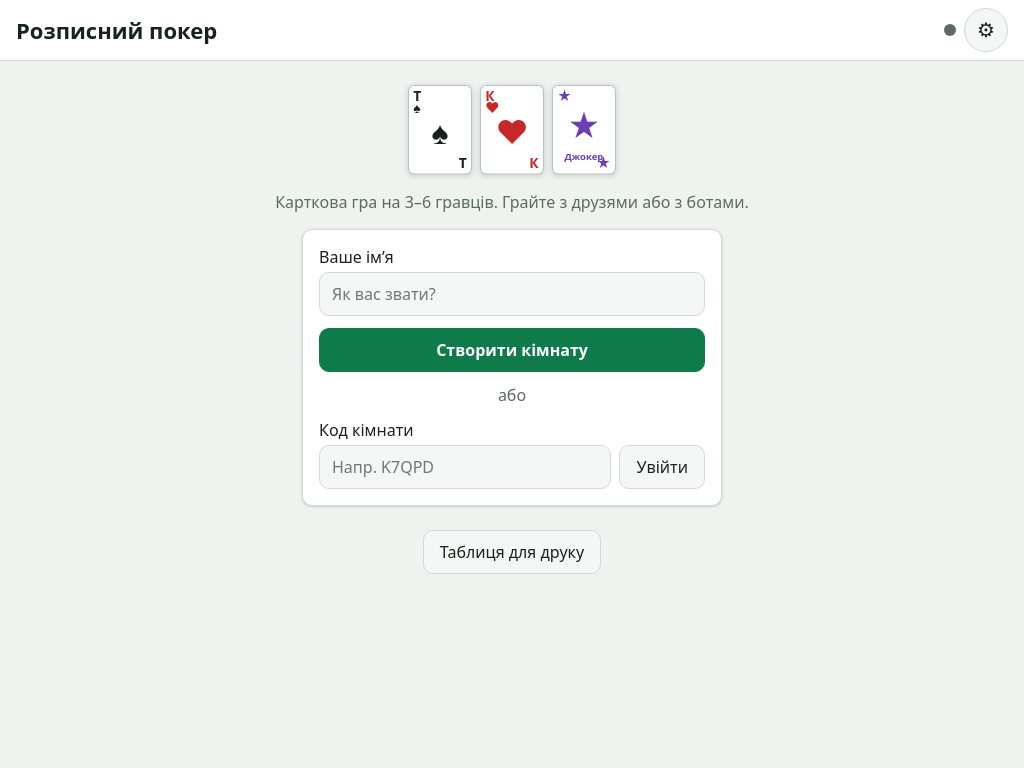
Test: лобі › створює кімнату з введеним імʼям і запамʼятовує токен
Type "  Оля " into the field labelled "Ваше імʼя" at point(512, 294), box [319,272,705,316]
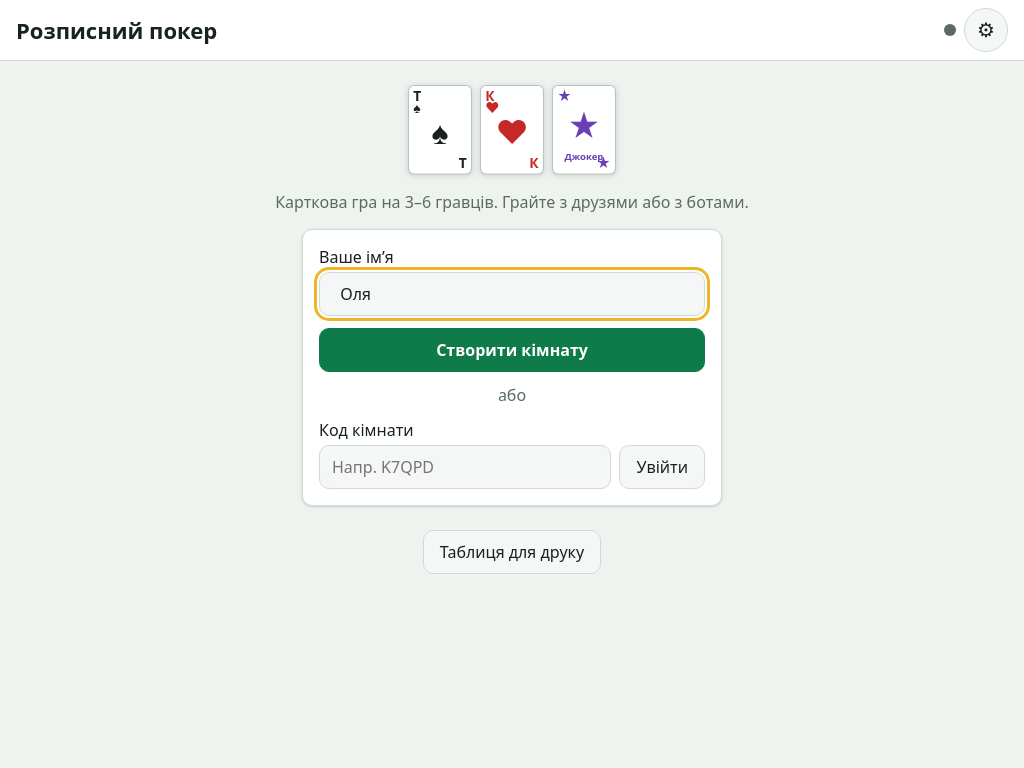
Click the button "Створити кімнату" at point(512, 350), box [319,328,705,372]
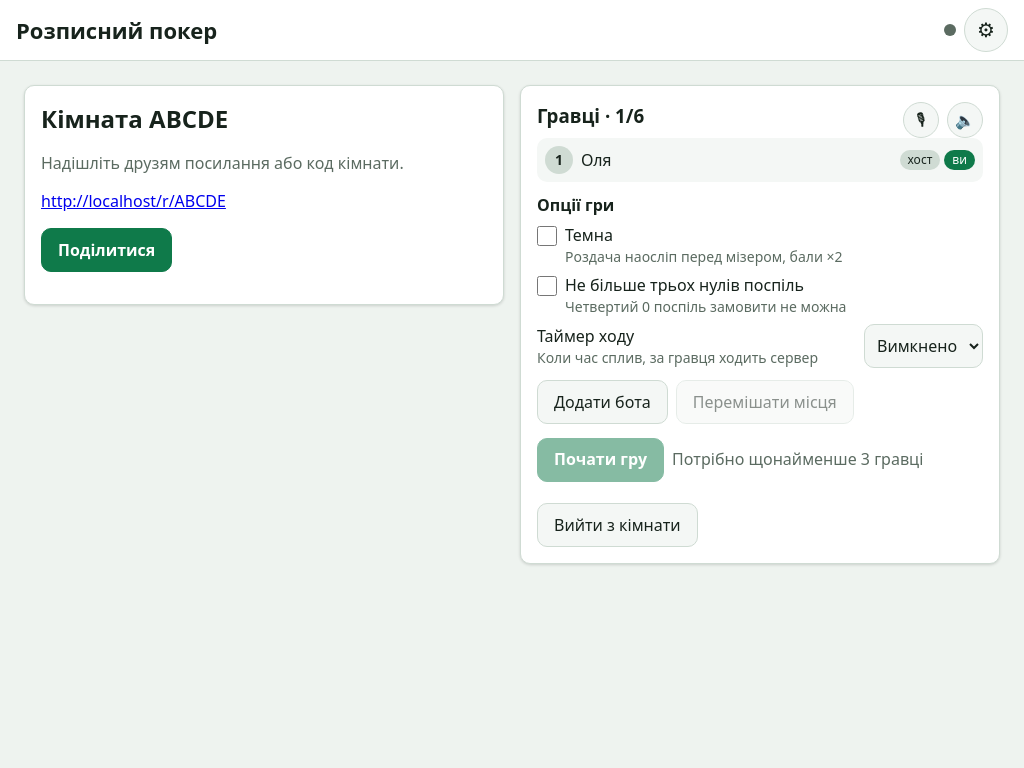
expect the heading "Кімната ABCDE" is shown: met, box [41,102,228,135]
expect the text "Оля" is shown: met, box [581,149,612,171]
